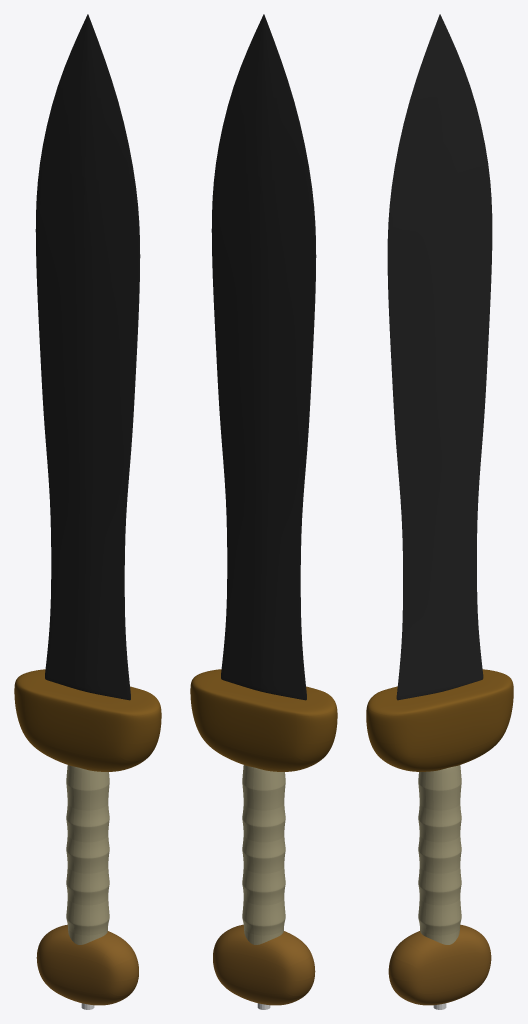
The model's file is GLADIUS.fbx.
3 renders of one model, left to right at view 1: azimuth 30°, elevation 25°; view 2: azimuth 210°, elevation 25°; view 3: azimuth 270°, elevation 25°, orthographic.
Parts seen in each view (by area): view 1: Cube, Cube.001, Cylinder, Cube.002; view 2: Cube, Cube.001, Cylinder, Cube.002; view 3: Cube, Cube.001, Cylinder, Cube.002.
Boxes of the visible parts, x1,y1,x2,y2 form: Cube: (35,14,140,700); Cube.001: (14,669,161,771); Cylinder: (66,765,109,944); Cube.002: (36,924,138,1005); Cube: (211,14,316,700); Cube.001: (190,669,337,771); Cylinder: (242,765,285,944); Cube.002: (213,924,315,1005); Cube: (387,14,492,700); Cube.001: (366,669,513,771); Cylinder: (418,765,461,944); Cube.002: (388,924,491,1005).
Size of the model in its own units: 153 by 1546 by 208.
